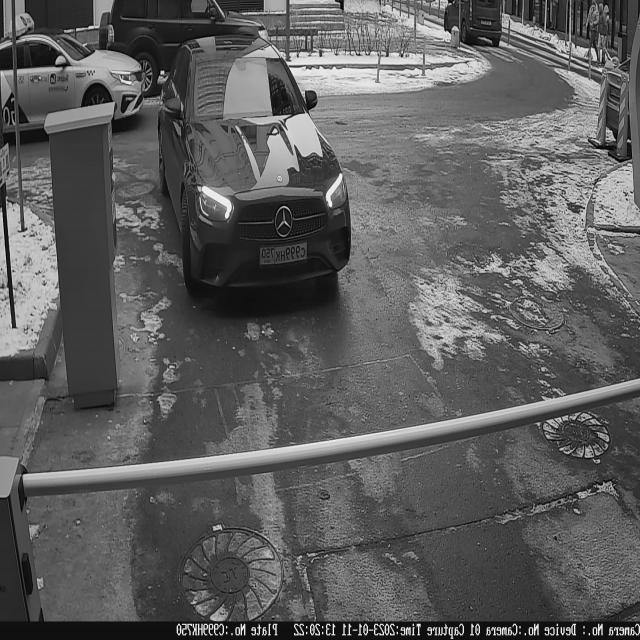car-plate-numbers: (260, 240, 310, 270)
